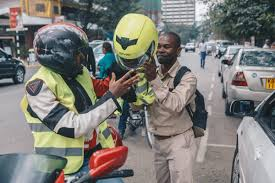helmet: (29, 18, 91, 77), (109, 10, 158, 73)
